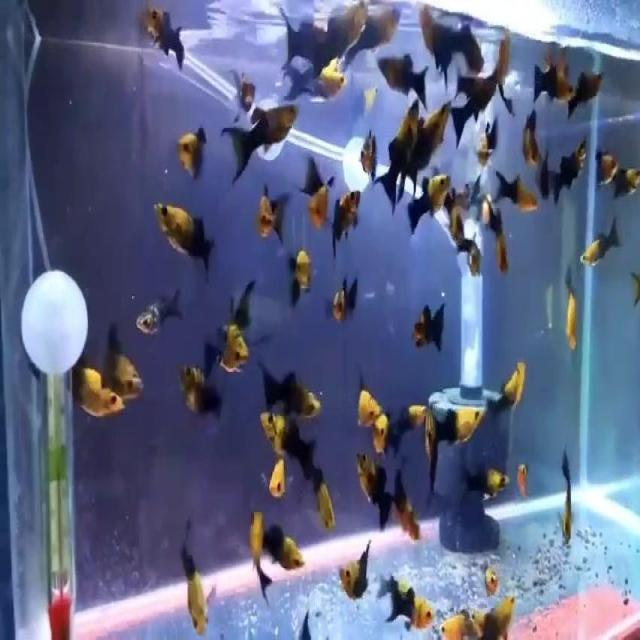PlatyFish: (218, 89, 306, 184), (150, 186, 226, 290), (170, 505, 216, 640), (425, 388, 492, 473), (379, 555, 439, 637), (257, 356, 321, 431), (372, 43, 434, 117), (403, 164, 452, 251), (139, 0, 189, 83), (323, 181, 365, 275), (573, 205, 626, 279), (490, 164, 540, 213)
